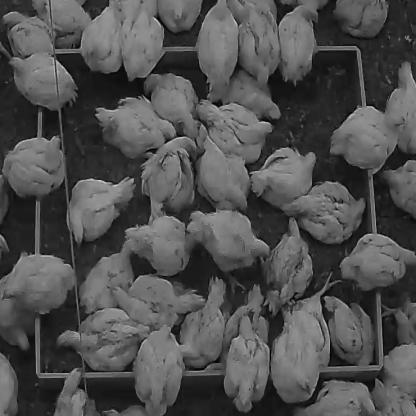chicken: (56, 307, 147, 371), (108, 272, 207, 330), (280, 180, 366, 242), (329, 104, 405, 173), (96, 94, 176, 159), (197, 98, 274, 164), (222, 310, 270, 412), (262, 217, 312, 314), (141, 136, 196, 223), (285, 274, 337, 366), (175, 275, 225, 368), (227, 0, 279, 87), (2, 252, 76, 313), (133, 325, 183, 415), (122, 216, 198, 275), (66, 177, 134, 242), (340, 232, 416, 290), (196, 134, 250, 213), (272, 314, 320, 402), (7, 52, 78, 110), (248, 146, 316, 206), (3, 135, 66, 199), (323, 293, 377, 366), (194, 0, 238, 88), (80, 241, 134, 309), (119, 0, 164, 81), (206, 69, 280, 118), (144, 72, 199, 136), (277, 3, 318, 84), (223, 284, 263, 367), (80, 0, 122, 73), (30, 0, 91, 48), (384, 61, 416, 152), (0, 9, 55, 58), (0, 281, 37, 350), (295, 381, 369, 415), (332, 0, 388, 38), (53, 368, 97, 416), (384, 159, 416, 219), (370, 374, 416, 415), (382, 344, 416, 393), (381, 299, 416, 344), (158, 0, 202, 33), (0, 352, 19, 416), (279, 0, 329, 12), (102, 404, 149, 415), (0, 174, 8, 224), (0, 233, 9, 255)
